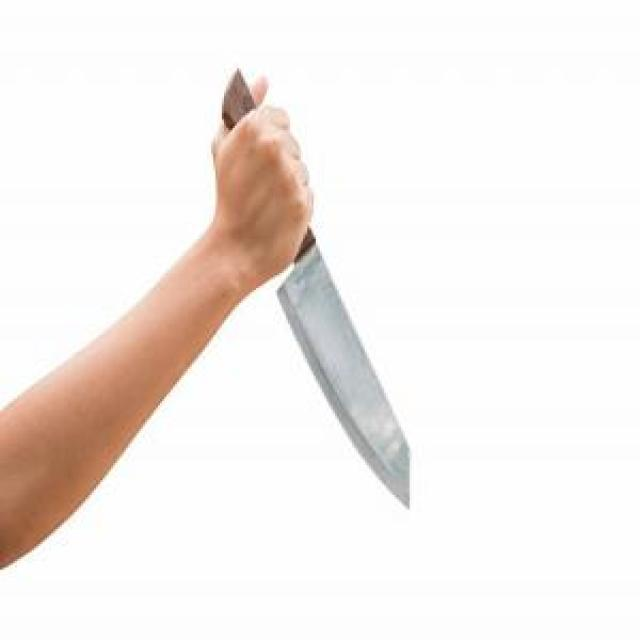knife: (207, 68, 419, 521)
